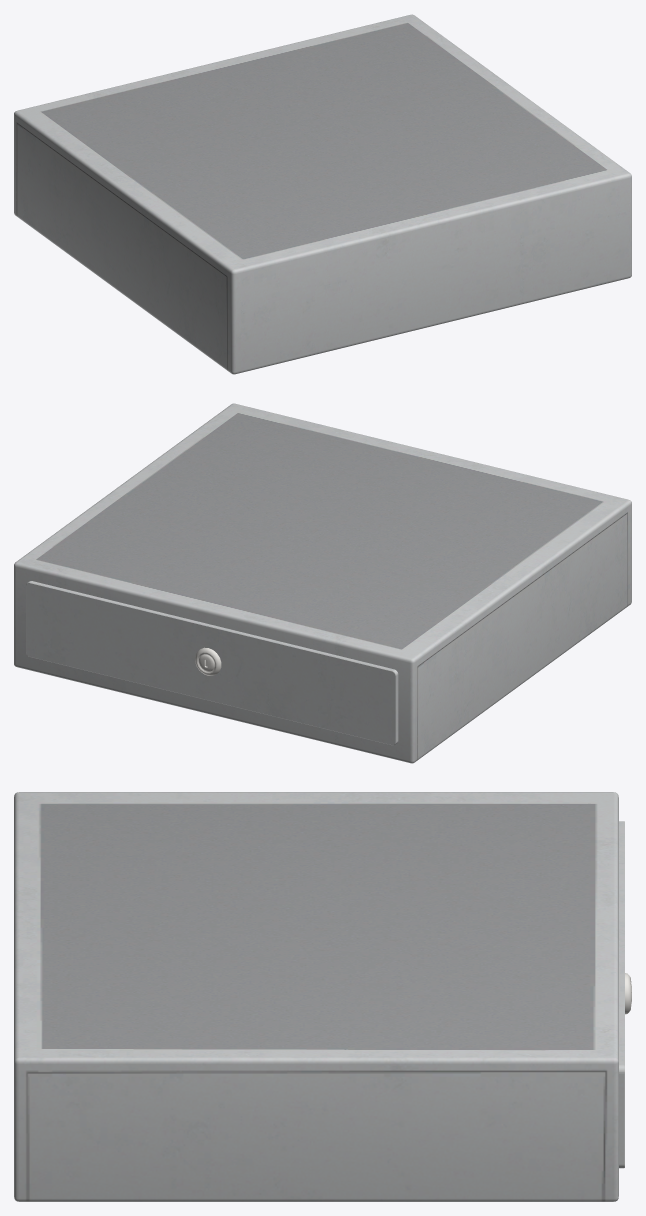
Rendered from SM_Cash_Register_02.glb.
3 views of the same model, one above another, from view 1: azimuth 30°, elevation 25°; view 2: azimuth 150°, elevation 25°; view 3: azimuth 270°, elevation 25° (orthographic). The views are drawn at different scales.
Visible parts, largest first — view 1: SM_Cash_Register_02; view 2: SM_Cash_Register_02; view 3: SM_Cash_Register_02.
Part boxes in pixels (bbox=[...]): SM_Cash_Register_02: bbox=[14, 14, 631, 374]; SM_Cash_Register_02: bbox=[14, 403, 631, 763]; SM_Cash_Register_02: bbox=[14, 792, 631, 1201].
Bounding box in the file's own units: 0.3821 × 0.0954 × 0.3712.
Materials: 1 (1 with a texture image).
